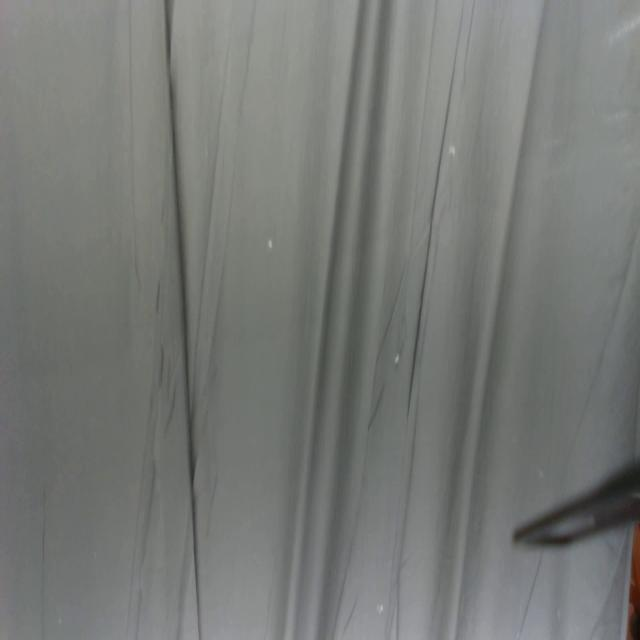crease: (192, 0, 258, 409), (408, 1, 468, 419), (167, 0, 202, 640), (563, 224, 638, 466), (123, 382, 154, 640), (126, 0, 144, 289), (516, 549, 548, 640), (39, 481, 50, 638)
hole: (268, 234, 274, 254), (376, 604, 384, 616), (449, 144, 456, 157), (538, 467, 545, 480), (396, 352, 400, 366)
